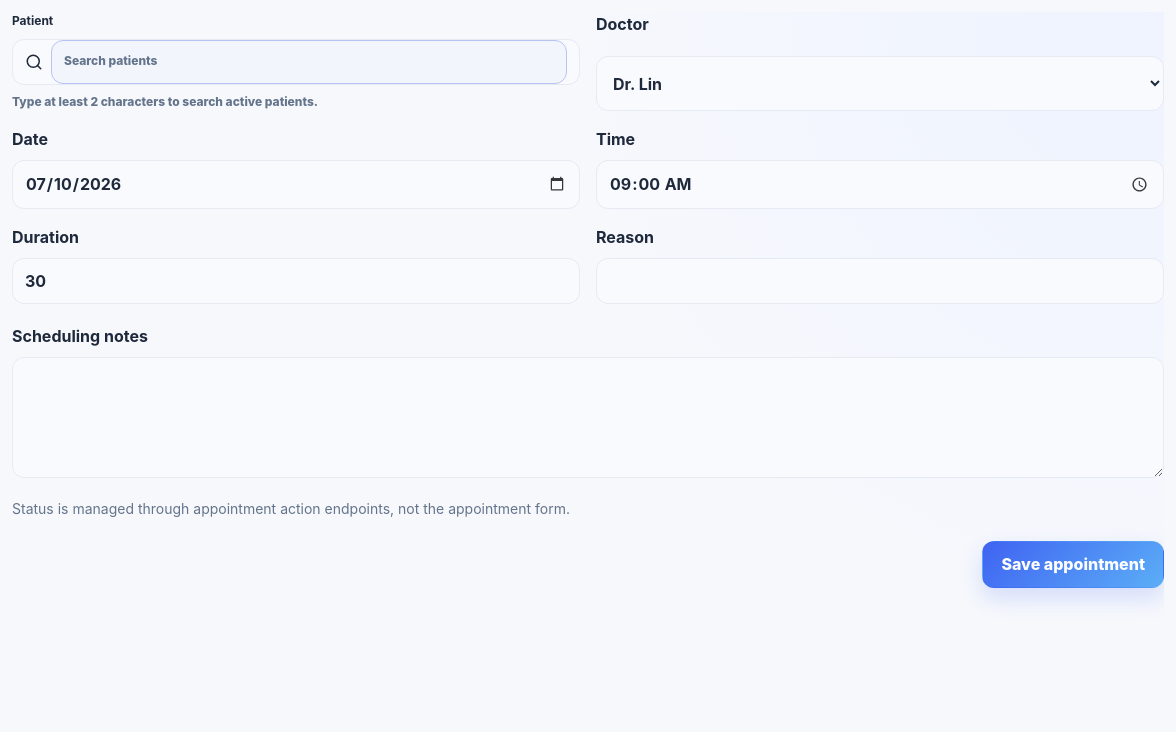
AppointmentForm › requires a selected patient instead of exposing a raw patient ID field
Expected: the dropdown labelled "Patient" is shown, [51,40,567,84]
Click the button "Save appointment" at coordinates (1073, 564), box [982,541,1164,588]
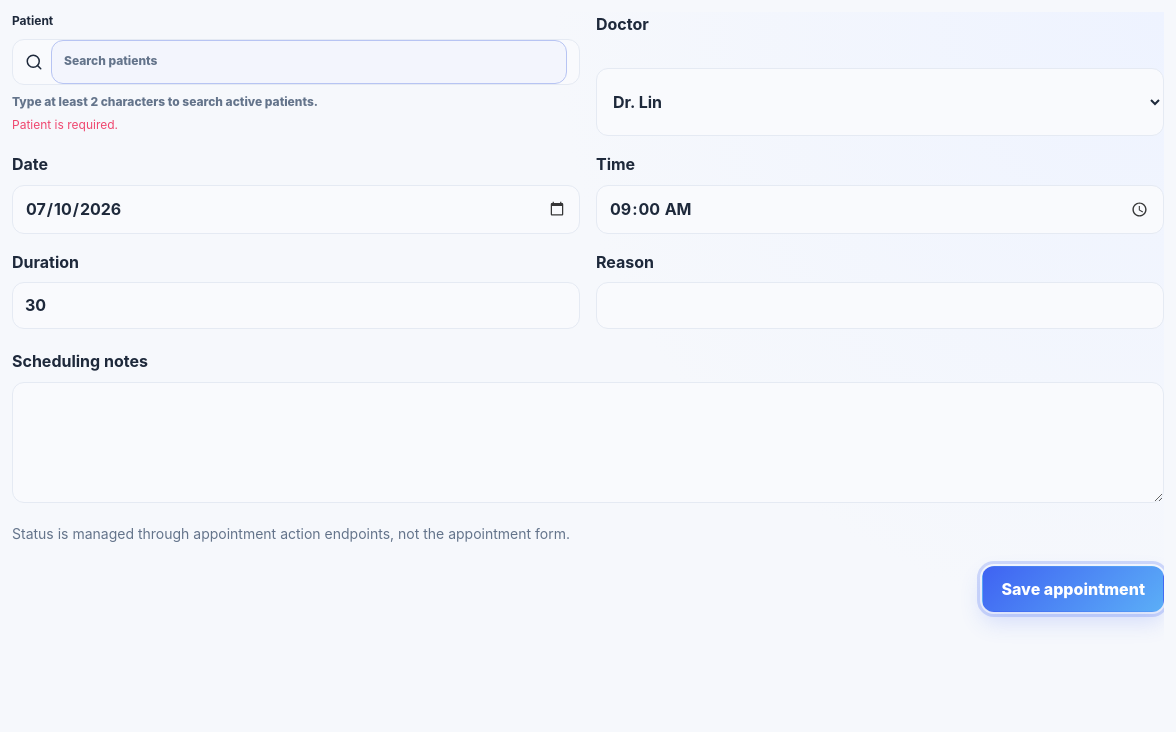
Expected: the text "Patient is required." is shown, [12,117,118,132]
